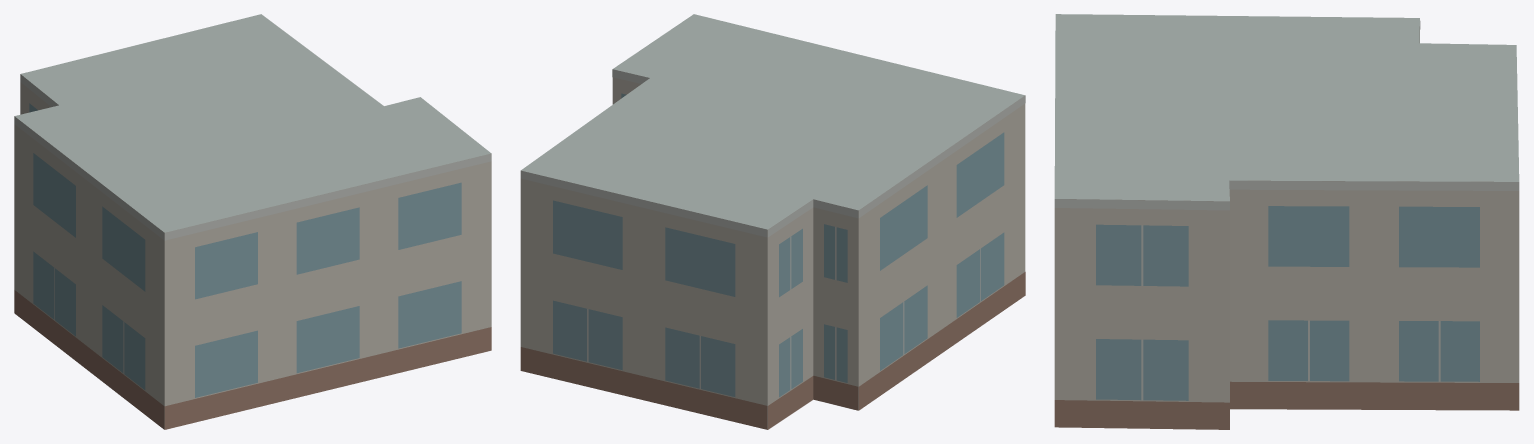
The model's file is survey-upis-33044754.glb.
3 views of the same model, side by side, from view 1: azimuth 30°, elevation 25°; view 2: azimuth 150°, elevation 25°; view 3: azimuth 270°, elevation 25° (orthographic). The views are drawn at different scales.
Parts seen in each view (by area): view 1: survey-upis-33044754.tmp; view 2: survey-upis-33044754.tmp; view 3: survey-upis-33044754.tmp.
Part boxes in pixels (x1=…): survey-upis-33044754.tmp: x1=14, y1=14, x2=491, y2=429; survey-upis-33044754.tmp: x1=520, y1=14, x2=1025, y2=429; survey-upis-33044754.tmp: x1=1054, y1=14, x2=1519, y2=429.
Size of the model in its own units: 10.74 by 6.1 by 11.25.
